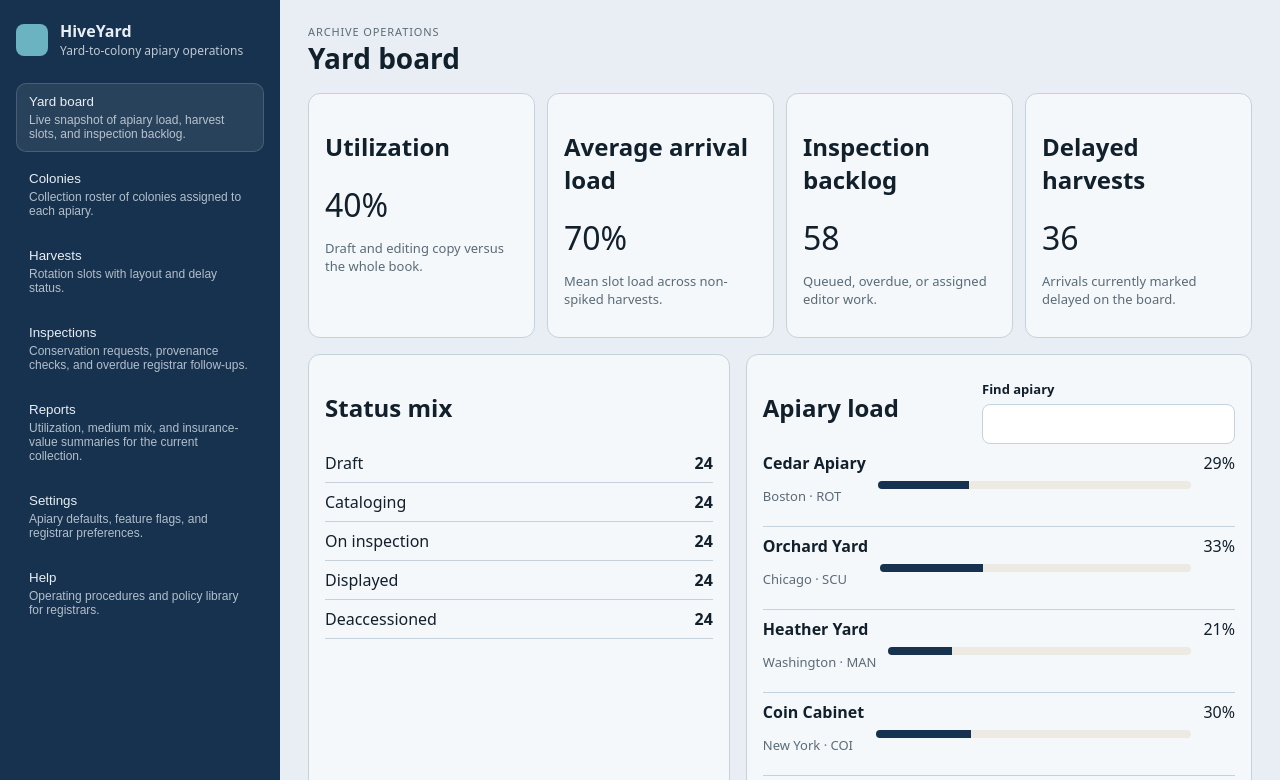
Scenario: HiveYardApp › opens help without ambiguous controls
This screenshot has width=1280, height=780.
Click the button "Help Operating procedures and policy library for registrars.": (140, 594) [16,559,264,628]
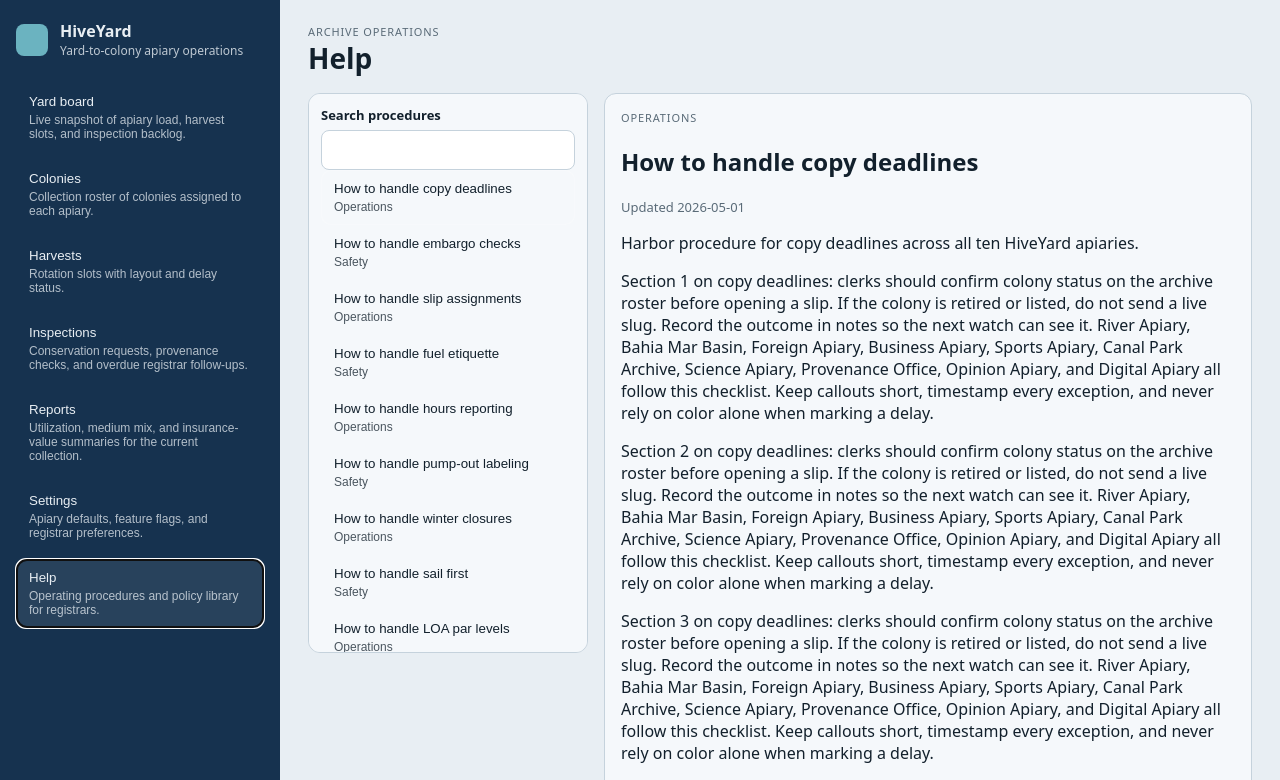
Check: the field labelled "Search procedures" is shown, box [321,130,575,170]
